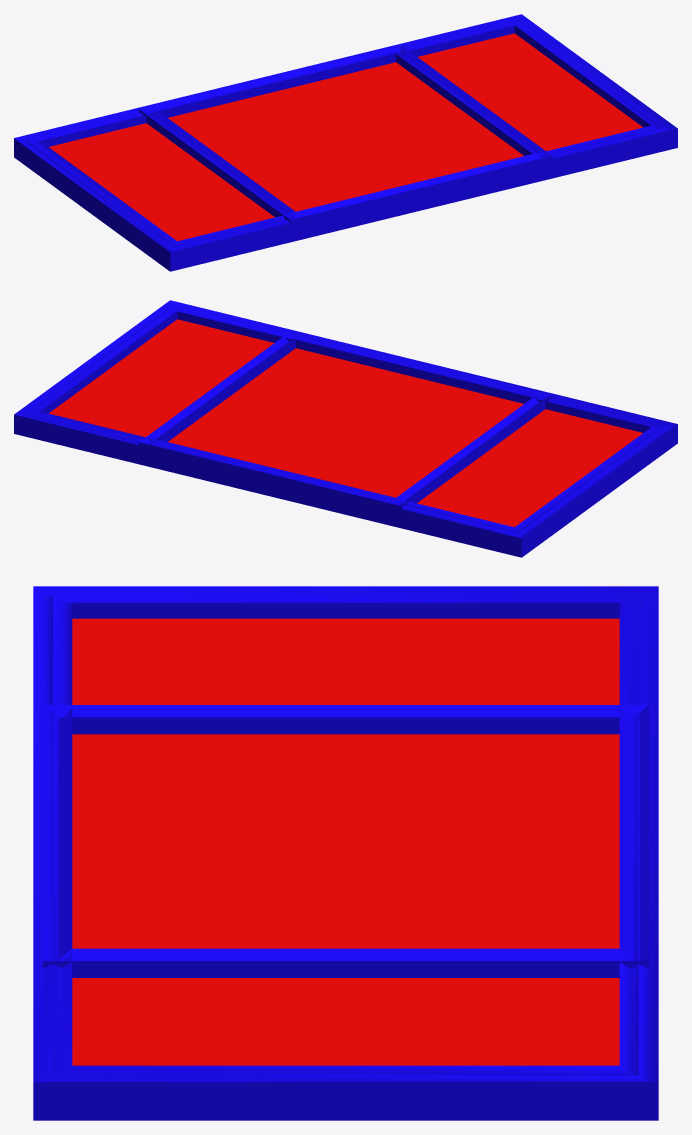
Rendered from Paintings.FBX.
The picture shows the model from 3 angles, top to bottom: view 1: azimuth 30°, elevation 25°; view 2: azimuth 150°, elevation 25°; view 3: azimuth 270°, elevation 25°; orthographic projection. The views are drawn at different scales.
Visible parts, largest first — view 1: Paintings_00, Paintings_01, Paintings_02; view 2: Paintings_00, Paintings_01, Paintings_02; view 3: Paintings_00, Paintings_01, Paintings_02.
Part boxes in pixels (x1,y1,x2,y2): Paintings_00: (14,14,677,271); Paintings_01: (139,45,552,222); Paintings_02: (140,47,540,208); Paintings_00: (14,300,677,557); Paintings_01: (139,331,552,508); Paintings_02: (153,339,551,503); Paintings_00: (33,586,658,1120); Paintings_01: (43,705,648,977); Paintings_02: (45,705,648,960).
Bounding box in the file's own units: 2.14 × 0.0822 × 1.14.
